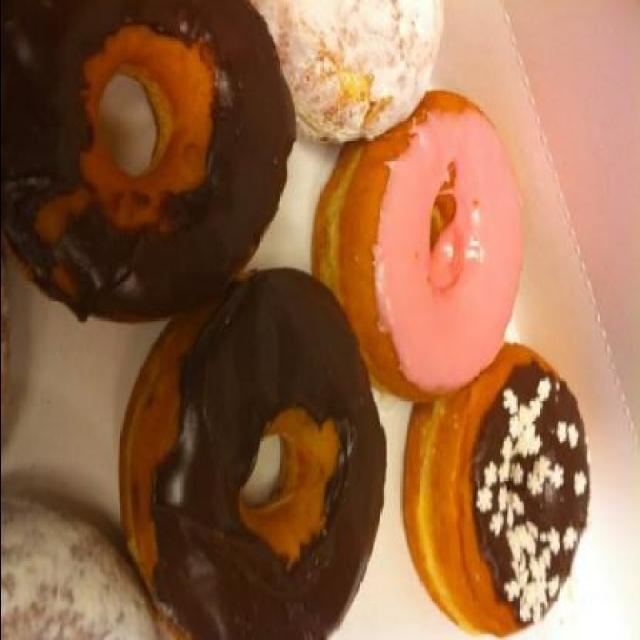Donuts: (2, 11, 596, 640)
